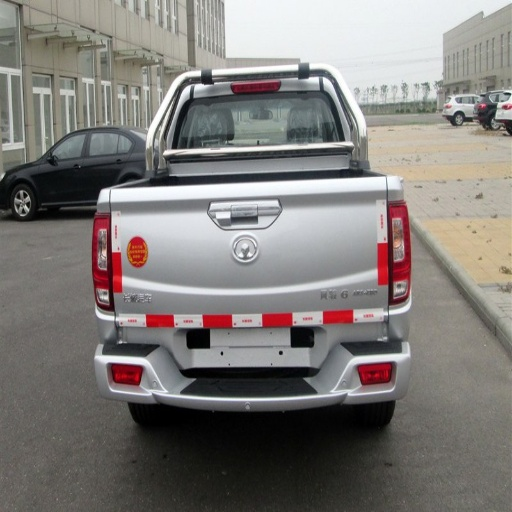back_bumper: (95, 307, 411, 411)
trunk: (116, 154, 386, 347)
